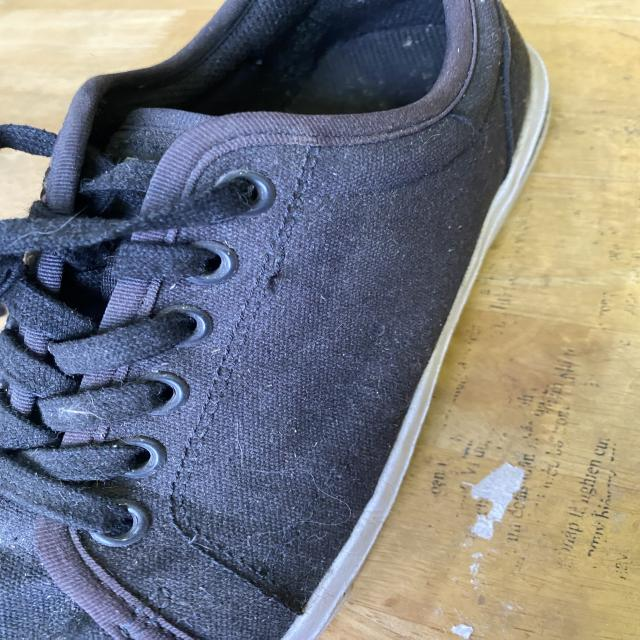broken-error: (251, 258, 303, 300), (427, 101, 480, 140)
